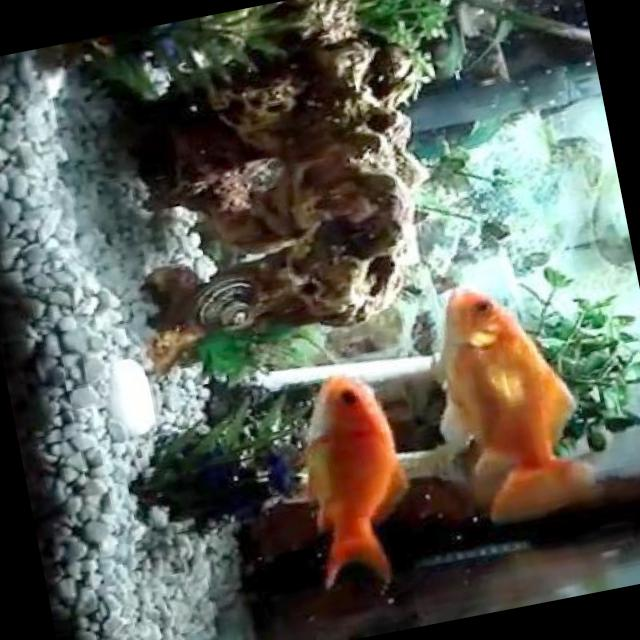GoldFish: (412, 268, 600, 536), (274, 362, 424, 596)
